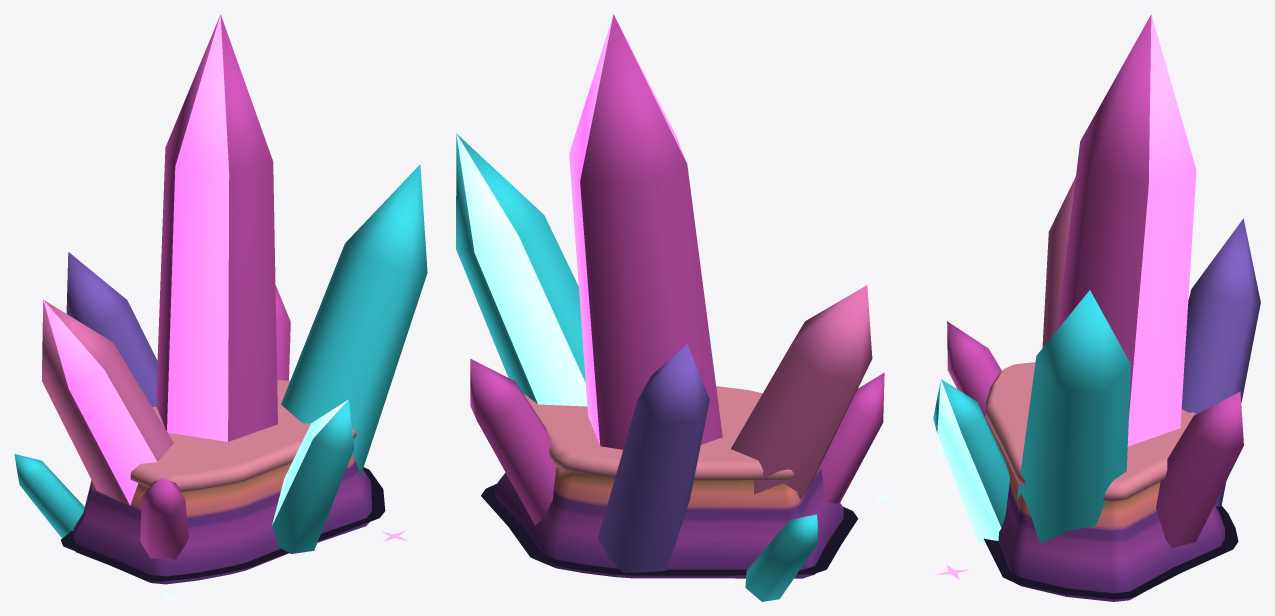
The model's file is crystal_cluster.glb.
3 views of the same model, side by side, from view 1: azimuth 30°, elevation 25°; view 2: azimuth 150°, elevation 25°; view 3: azimuth 270°, elevation 25° (orthographic). The views are drawn at different scales.
Visible parts, largest first — view 1: Crystals; view 2: Crystals; view 3: Crystals.
Part boxes in pixels (<box>): Crystals: <box>14,14,427,601</box>; Crystals: <box>456,14,896,601</box>; Crystals: <box>926,14,1260,601</box>.
Bounding box in the file's own units: 1.09 × 1.37 × 0.7804.
